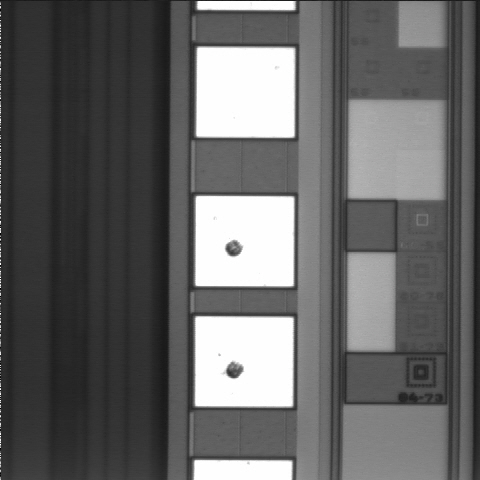pad: (196, 47, 295, 138), (195, 316, 293, 407), (195, 196, 294, 286)
